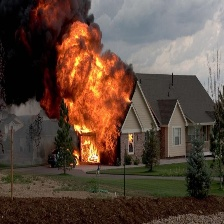fire: (53, 20, 136, 165)
smoke: (1, 4, 94, 88)
